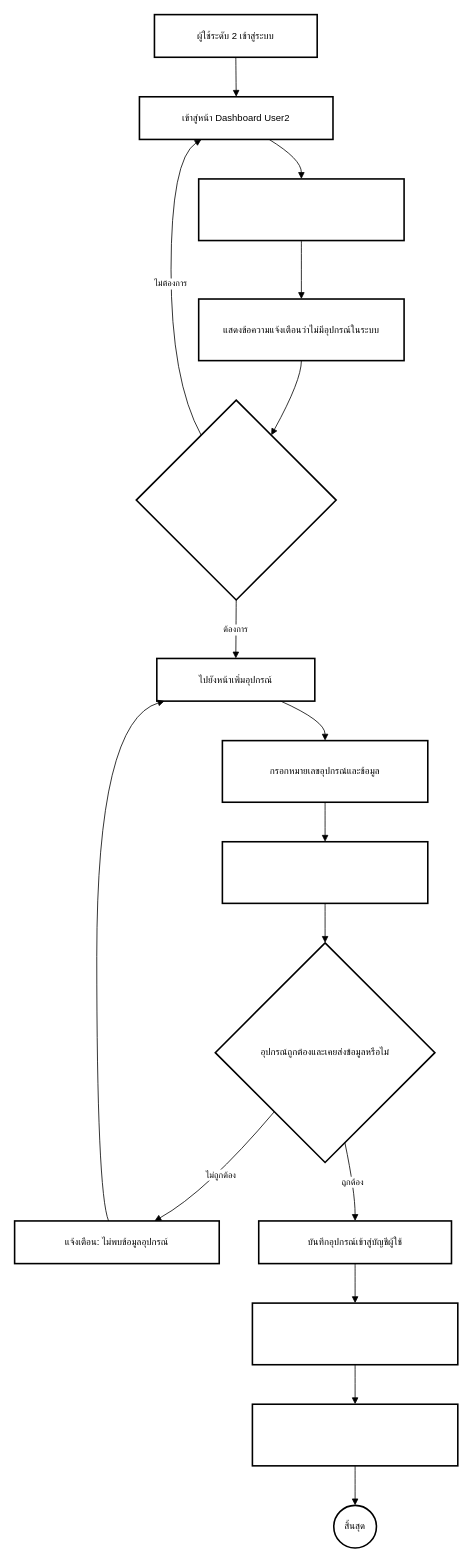
The diagram is 472 pixels wide and 1562 high, and some of its shapes have lost their labels. The box of each missing label's shape, as (x1, y1, x2, y2) in pixels:
ผู้ใช้ต้องการเพิ่มอุปกรณ์หรือไม่: (135, 399, 337, 600)
ระบบตรวจสอบว่าไม่มีอุปกรณ์ในบัญชี: (198, 178, 404, 241)
ระบบตรวจสอบอุปกรณ์ใน Device Logs: (221, 841, 428, 904)
รีเฟรชและพาผู้ใช้ไป Dashboard User1: (251, 1403, 458, 1466)
อัปเดตสิทธิ์ผู้ใช้จาก User2 เป็น User1: (251, 1302, 458, 1365)
